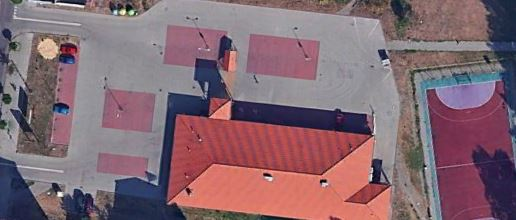shopping_center: (163, 92, 396, 220)
